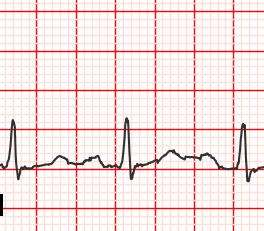ST Depression: (116, 158, 139, 183), (233, 162, 254, 186), (4, 160, 23, 183)
